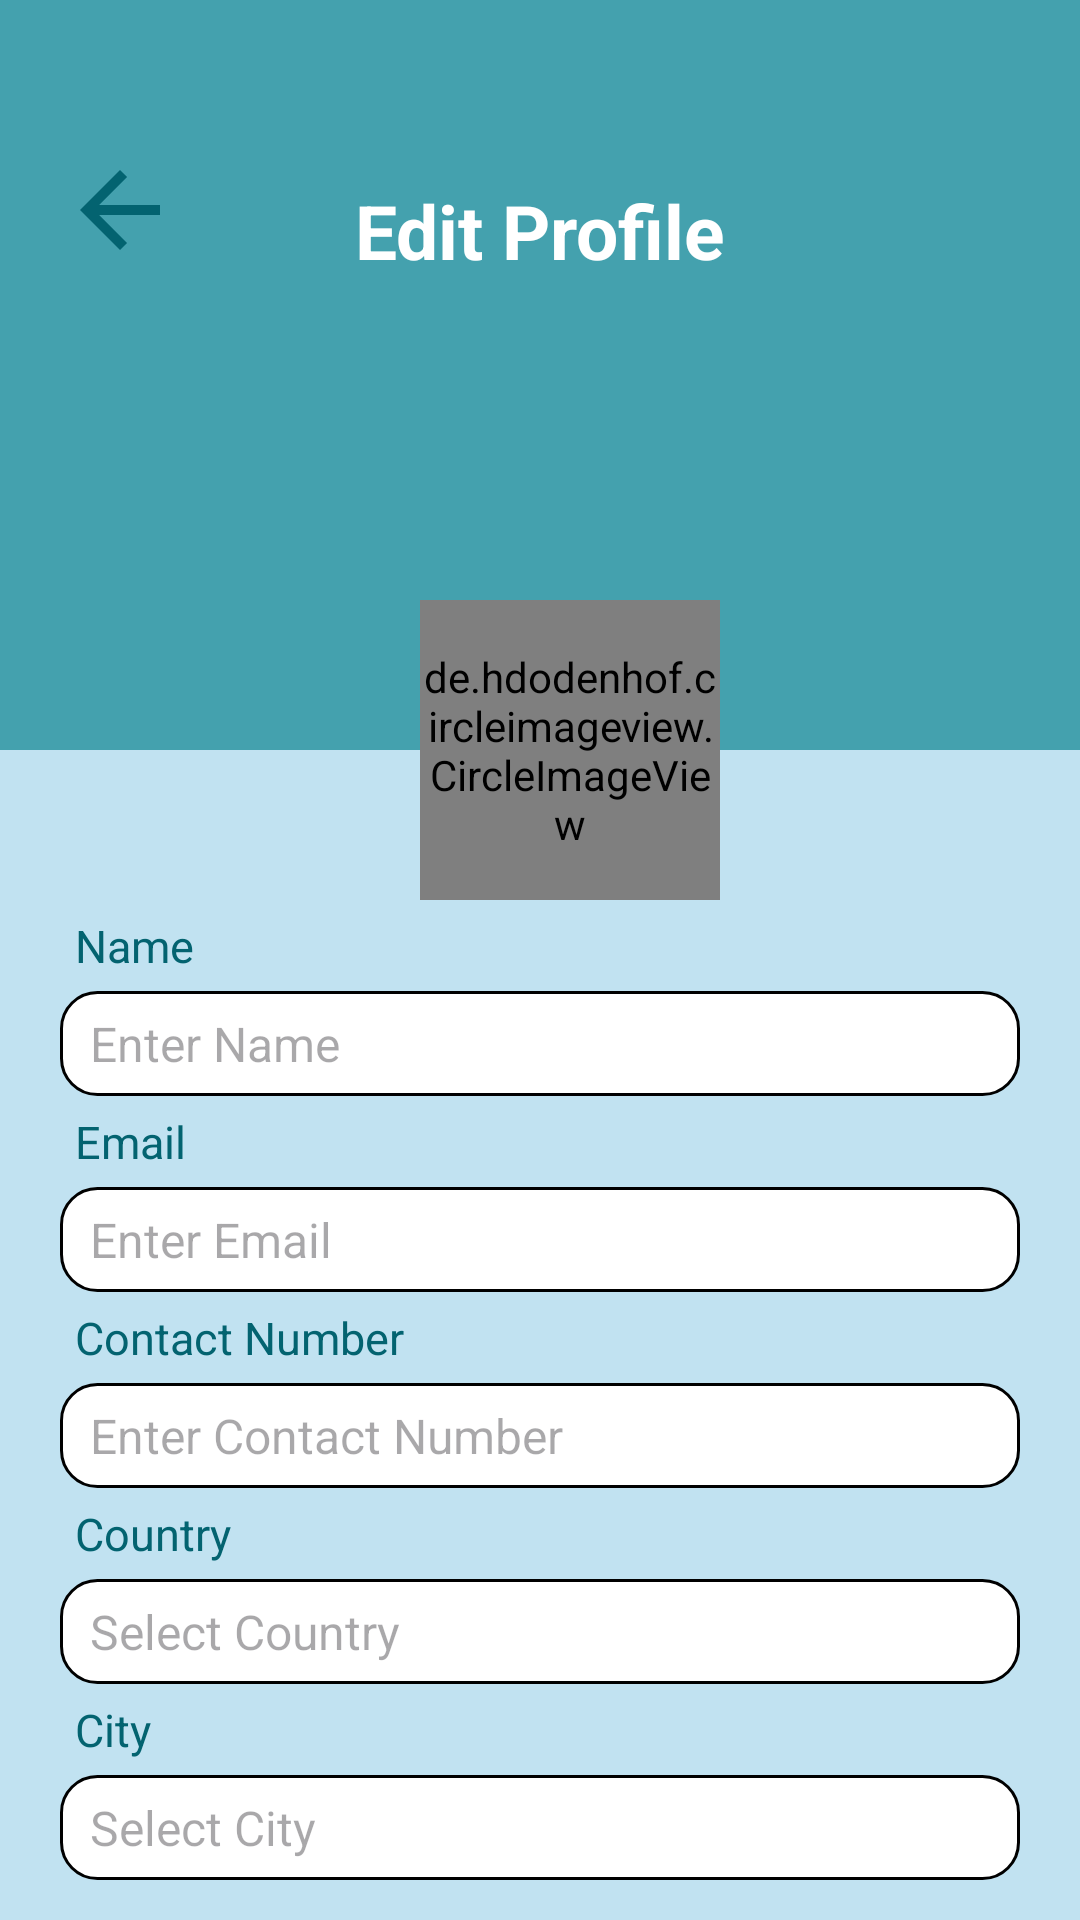

Named icons in this screenshot (1080w x 1920h) and their centers, [x,y]:
back arrow: [120,210]
